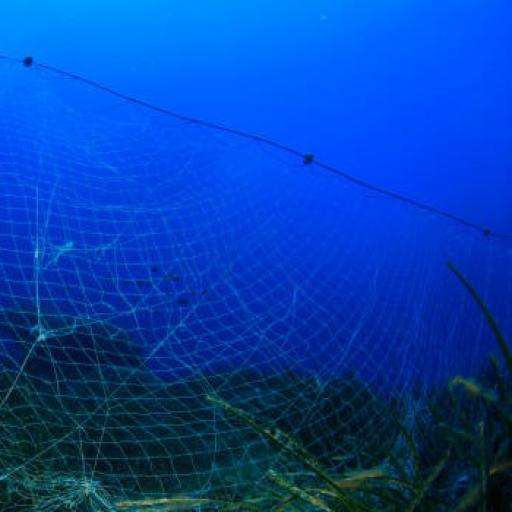net: (1, 52, 512, 508)
